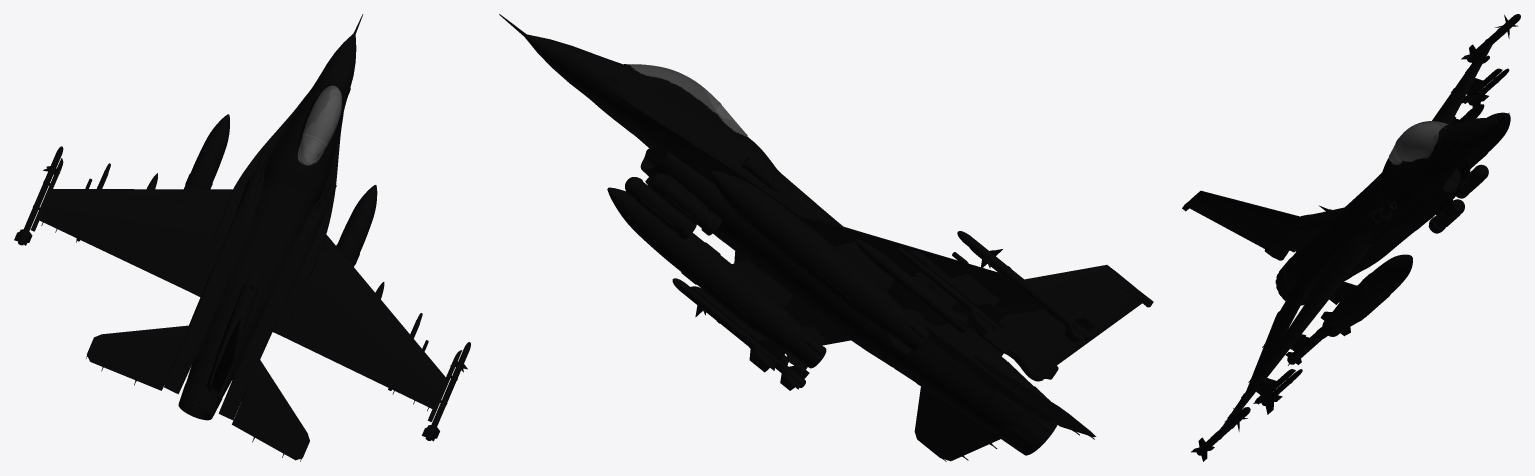
File: YellowPlane.glb
3 renders of one model, left to right at view 1: azimuth 30°, elevation 25°; view 2: azimuth 150°, elevation 25°; view 3: azimuth 270°, elevation 25°, orthographic. The views are drawn at different scales.
Parts seen in each view (by area): view 1: node_id286, node_id284, node_id293, node_id303, node_id315, node_id291, node_id297; view 2: node_id286, node_id284, node_id293, node_id303, node_id315, node_id291, node_id295, node_id289, node_id299, node_id320, node_id297; view 3: node_id286, node_id284, node_id303, node_id315, node_id297, node_id293, node_id301, node_id299, node_id291, node_id289, node_id318.
Part boxes in pixels (x1,y1,x2,y2): node_id286: (30, 14, 462, 461); node_id284: (207, 135, 326, 391); node_id293: (184, 114, 229, 189); node_id303: (336, 185, 377, 266); node_id315: (301, 85, 341, 144); node_id291: (14, 146, 63, 245); node_id297: (422, 342, 470, 441); node_id286: (499, 14, 1153, 461); node_id284: (625, 106, 1058, 383); node_id293: (710, 170, 929, 354); node_id303: (607, 187, 826, 371); node_id315: (627, 64, 719, 117); node_id291: (957, 231, 1094, 343); node_id295: (855, 239, 969, 336); node_id289: (897, 247, 1004, 336); node_id299: (679, 283, 785, 372); node_id320: (771, 257, 836, 309); node_id297: (672, 278, 809, 390); node_id286: (1182, 23, 1512, 436); node_id284: (1256, 78, 1488, 395); node_id303: (1320, 254, 1412, 337); node_id315: (1395, 121, 1448, 162); node_id297: (1191, 407, 1250, 461); node_id293: (1468, 112, 1510, 168); node_id301: (1286, 322, 1333, 365); node_id299: (1253, 369, 1302, 414); node_id291: (1461, 14, 1520, 62); node_id289: (1462, 68, 1509, 107); node_id318: (1371, 232, 1413, 252).
Bounding box in the file's own units: 1.68 × 1.43 × 1.13.
Materials: 25 (25 with a texture image).
